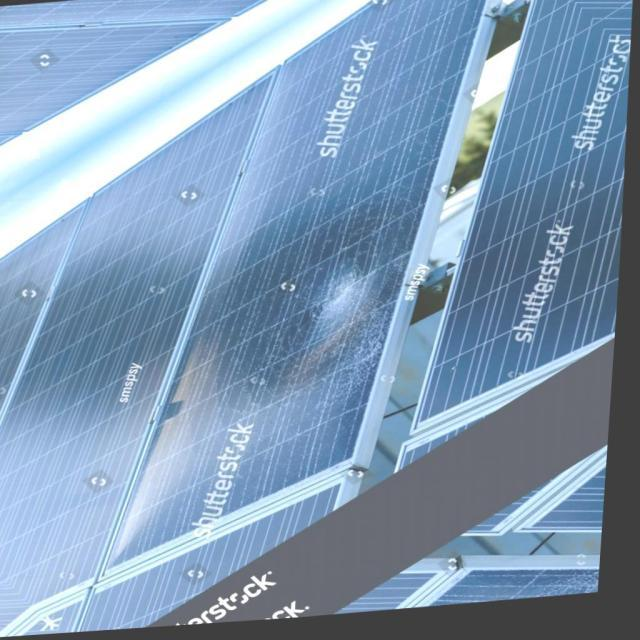cracked: (123, 1, 483, 558)
